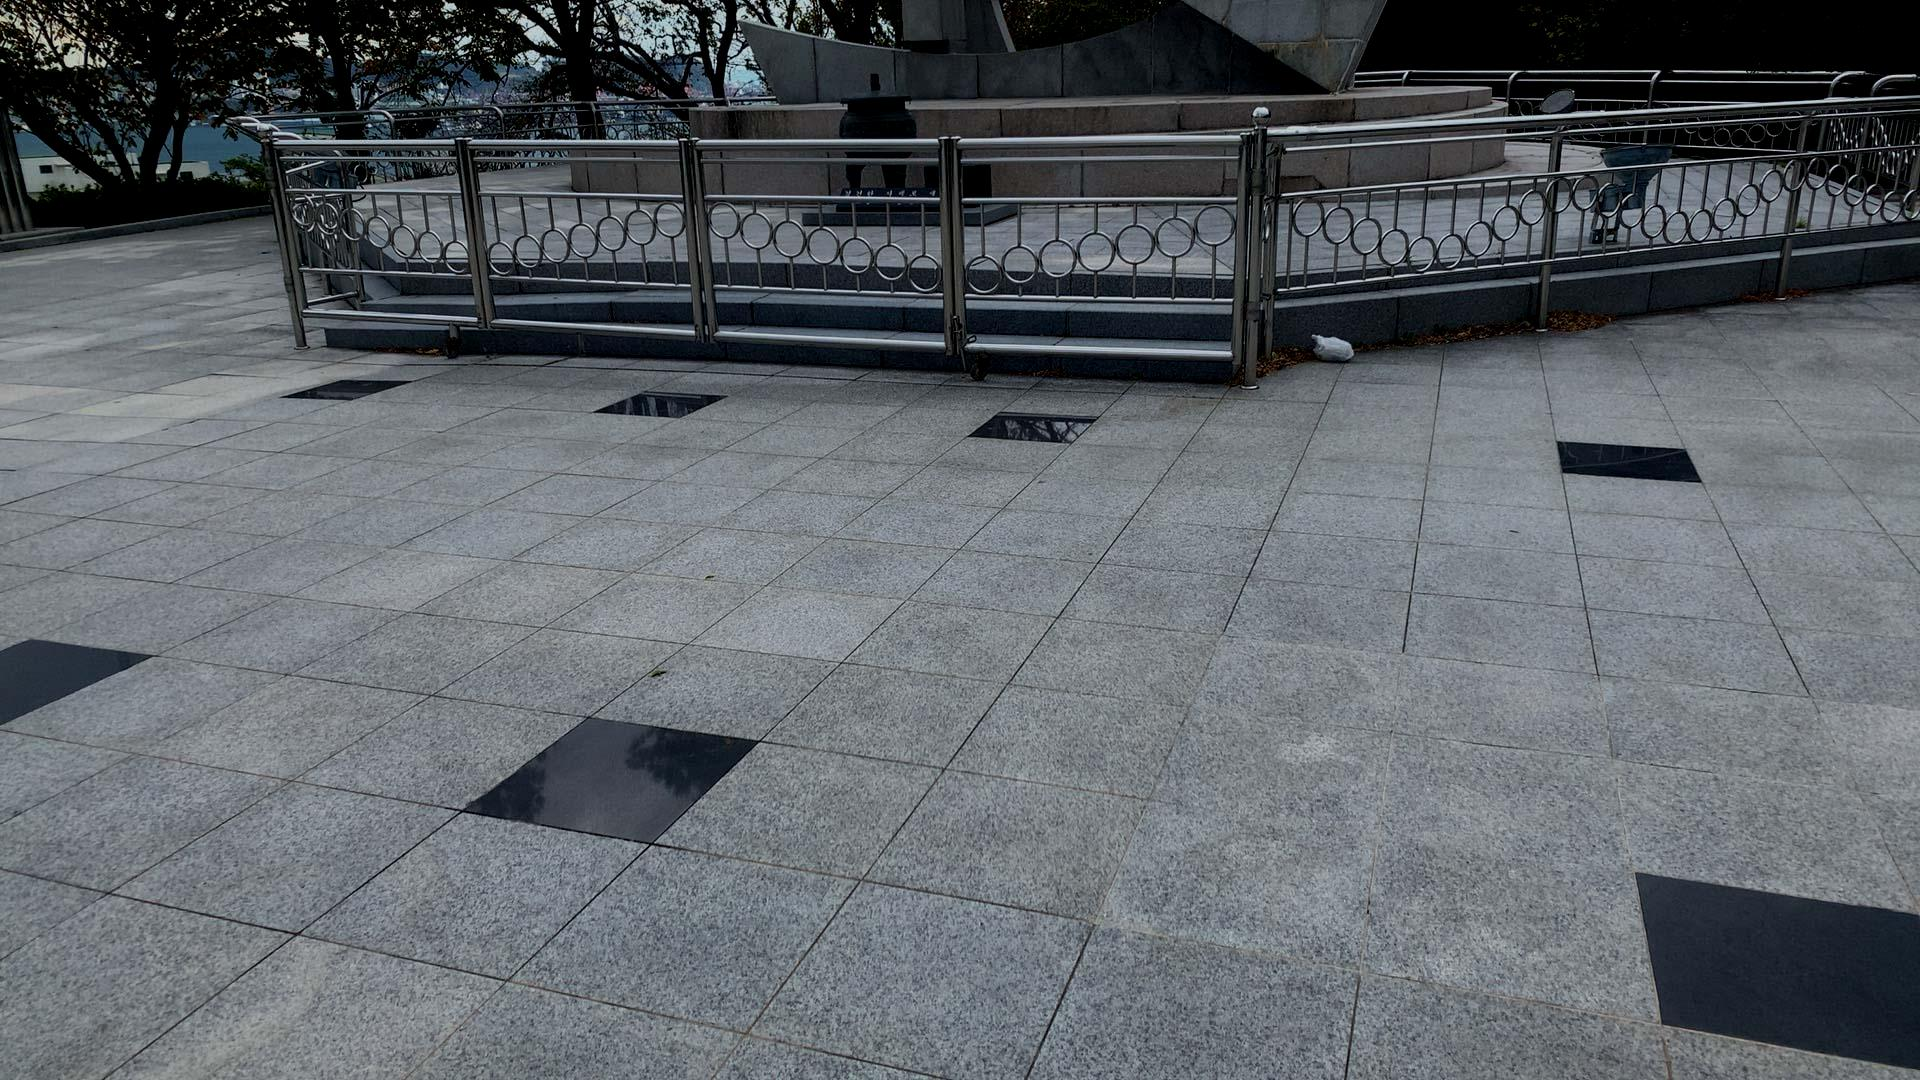white_bag: (1308, 334, 1356, 363)
